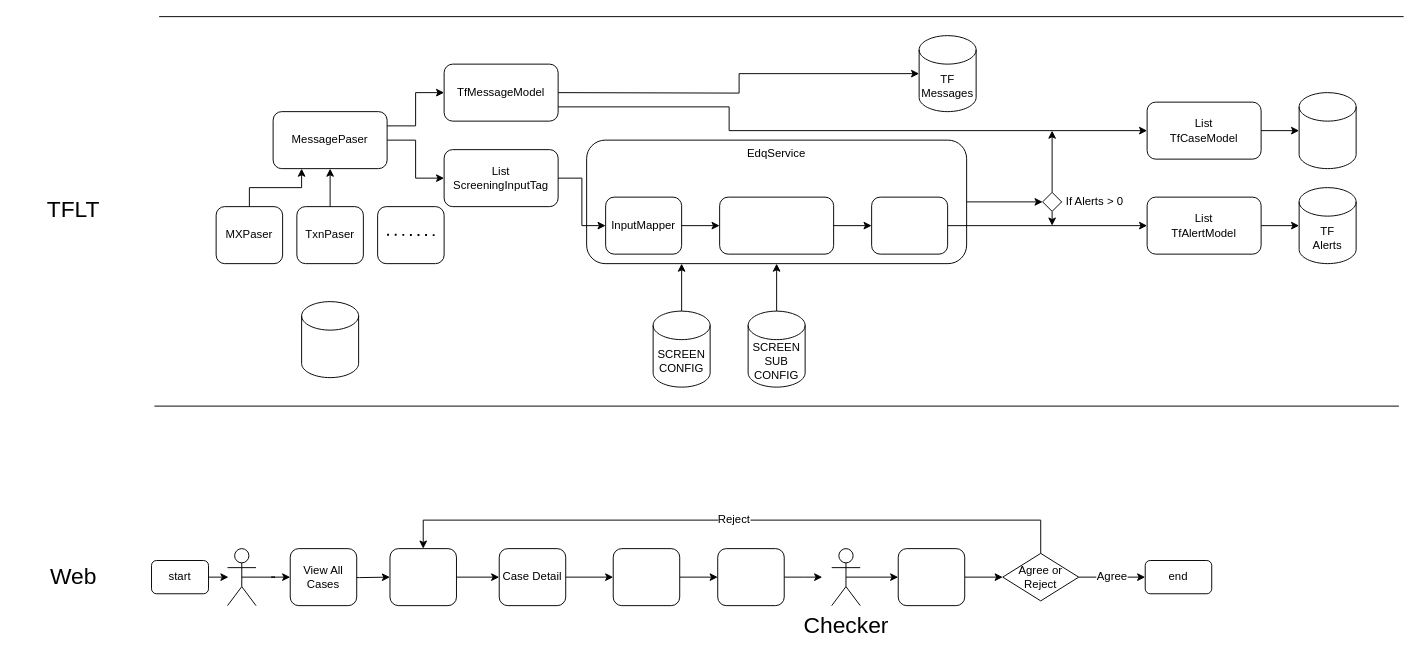
Image size: 1421x656. Some labels were removed from this diagram. The shapes that lost their labels are listed below. From the top down, each one's centre as x and y in pixels, then its label:
At (x=1327, y=130): "TF Cases".
At (x=776, y=225): "6 EDQ Service".
At (x=909, y=225): "AlertMapper".
At (x=330, y=339): "TF Message Source".
At (x=241, y=577): "Maker".
At (x=422, y=577): "Assign Case".
At (x=646, y=577): "Make Decision".
At (x=750, y=577): "Submit Case Resolusion".
At (x=931, y=577): "Review Case".
